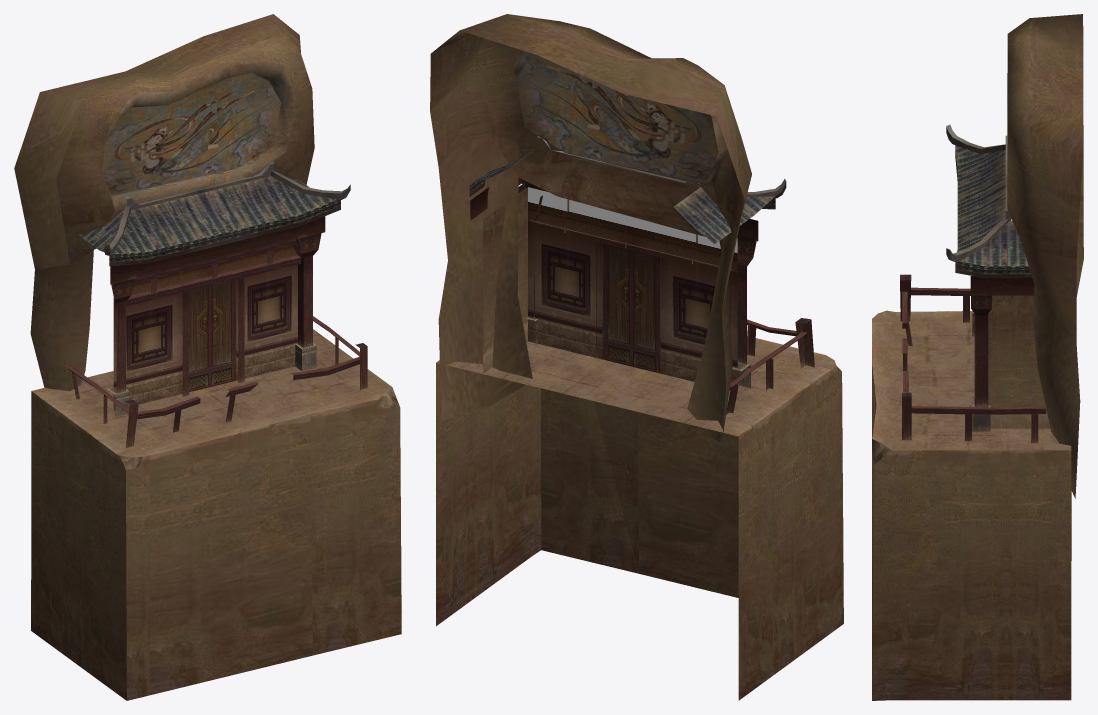
Rendered from yw_dunhuang_zhujian01.FBX.
The picture shows the model from 3 angles, left to right: view 1: azimuth 30°, elevation 25°; view 2: azimuth 150°, elevation 25°; view 3: azimuth 270°, elevation 25°; orthographic projection. The views are drawn at different scales.
Parts seen in each view (by area): view 1: yw_dunhuang_zhujian01; view 2: yw_dunhuang_zhujian01; view 3: yw_dunhuang_zhujian01.
Boxes of the visible parts, left/top/right/bottom form: yw_dunhuang_zhujian01: left=14, top=14, right=401, bottom=700; yw_dunhuang_zhujian01: left=430, top=14, right=843, bottom=700; yw_dunhuang_zhujian01: left=872, top=14, right=1083, bottom=700.
Bounding box in the file's own units: 801 × 1471 × 490.
1 material, 1 textured.
